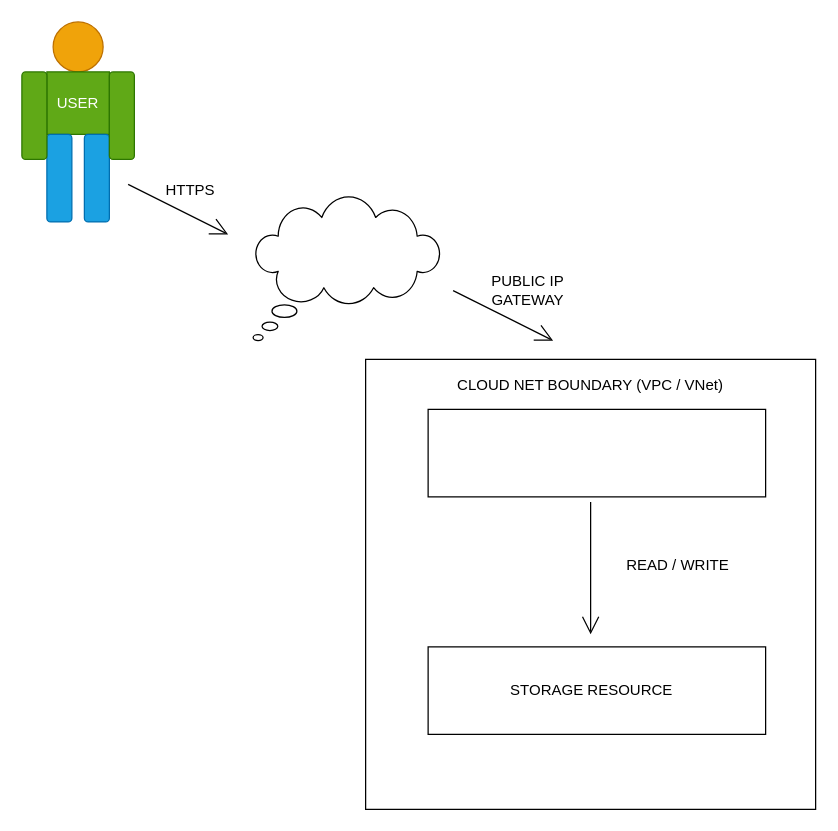
This 838x831 diagram has some shape labels left out. Here are the shapes that lost their labels. From the top down, the centre of each, then its label:
At [346,268]: "INTERNET".
At [596,452]: "COMPUTE RESOURCE (LINUX/VIRTUAL MACHINE)".
